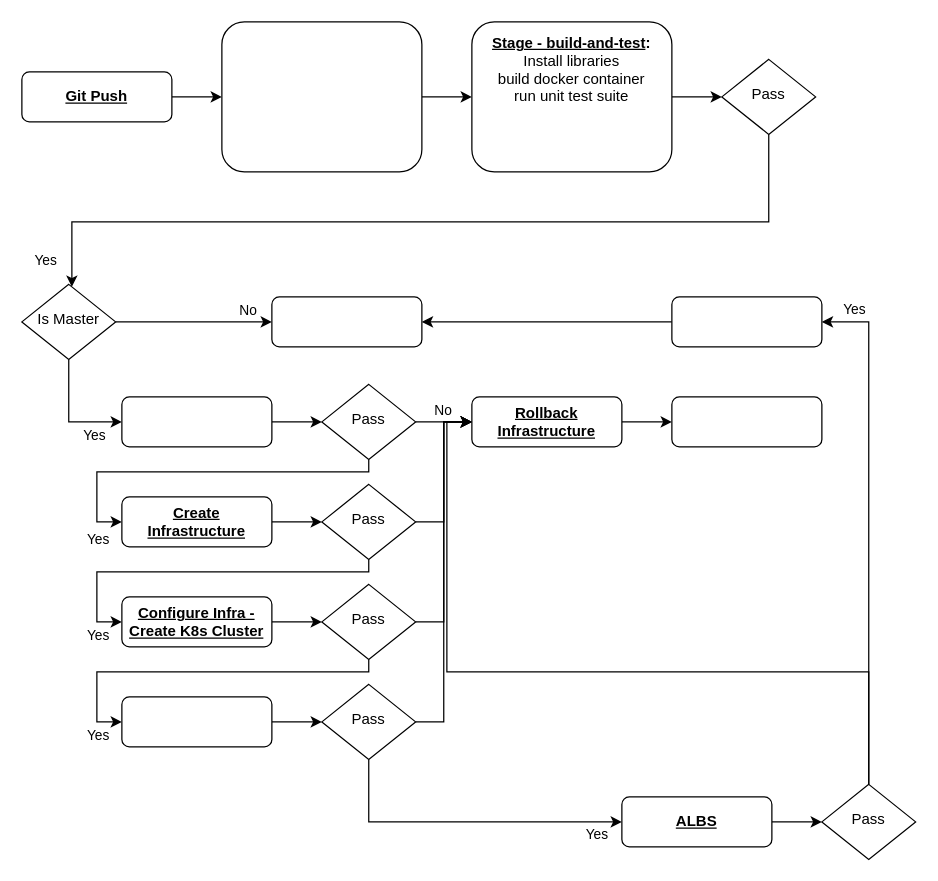
Image size: 938x881. Some labels were removed from this diagram. Each missing label, with the box of its shape:
COMPLETE: (271, 296, 422, 347)
Delete Old Stack: (671, 296, 822, 347)
Failure - Slack: (671, 396, 822, 447)
Smoke Test: (121, 696, 272, 747)
Stage - lint : Install libraries bash cloudformation docker python: (221, 21, 422, 172)
Upload Docker Container: (121, 396, 272, 447)
